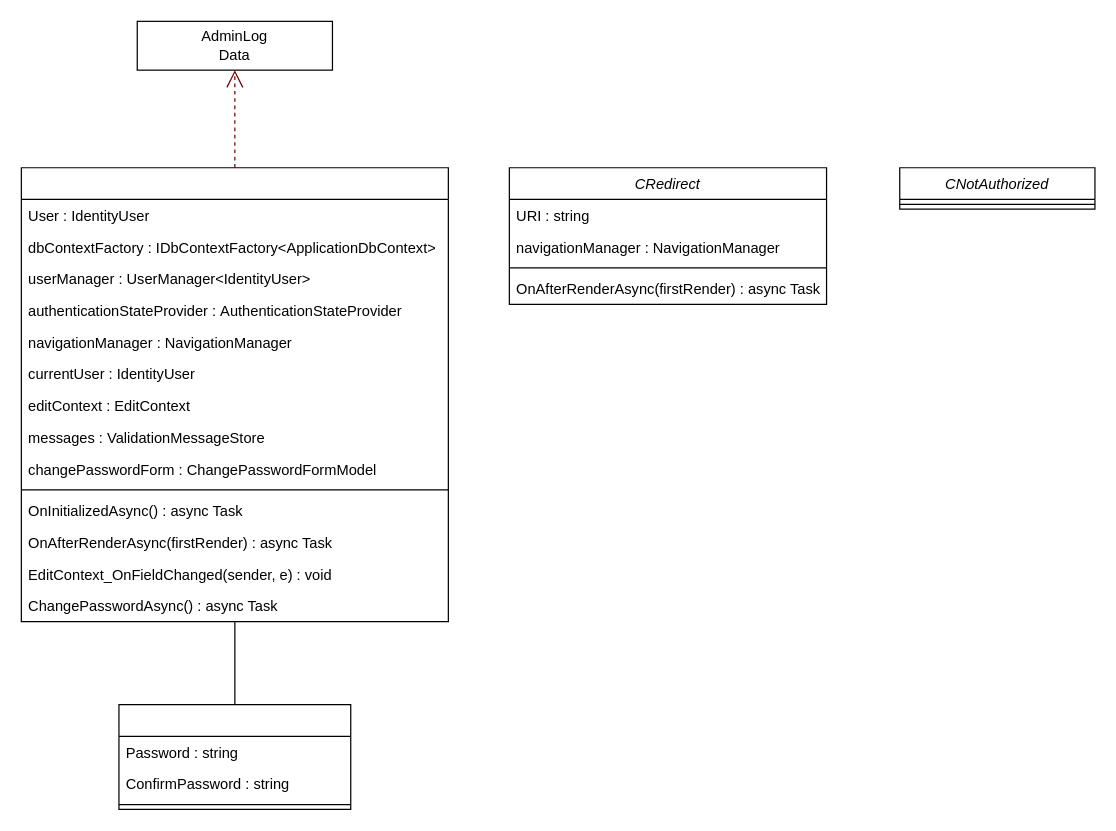
Image size: 1116x831. Some labels were removed from this diagram. Each missing label, with the box of its shape:
CChangePassword: (20, 167, 448, 622)
ChangePasswordFormModel: (118, 703, 351, 809)
